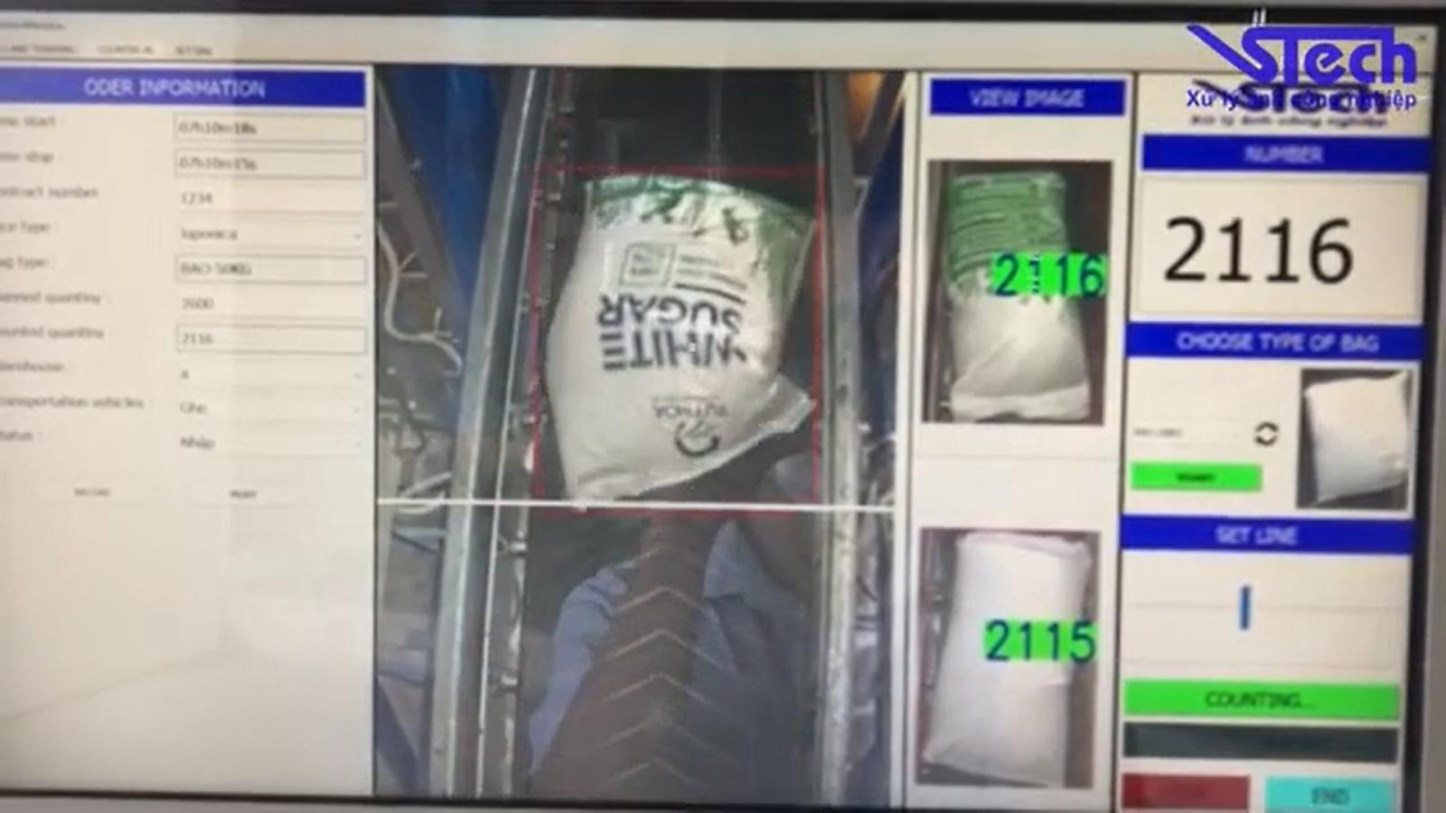rice-bag: (546, 174, 811, 499), (915, 528, 1097, 788), (934, 162, 1103, 423)
